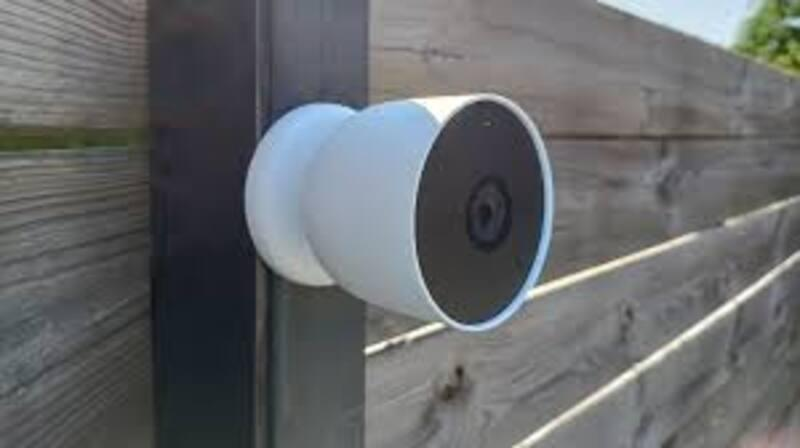nest: (310, 101, 566, 337)
